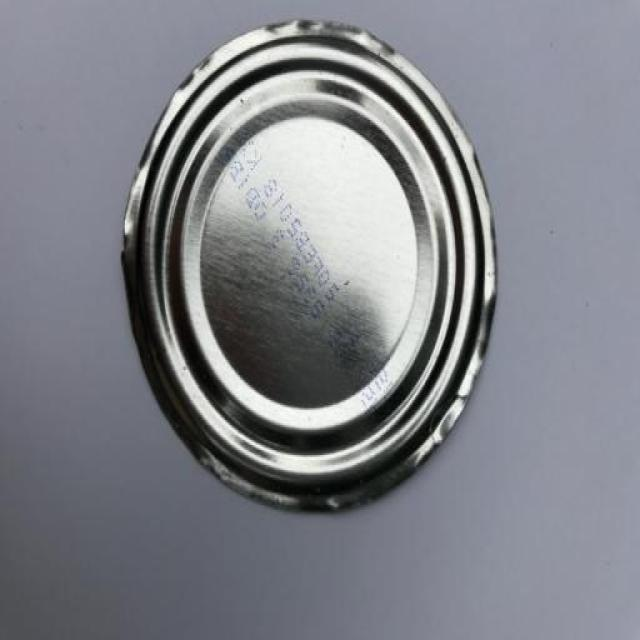Metal: (120, 18, 499, 517)
